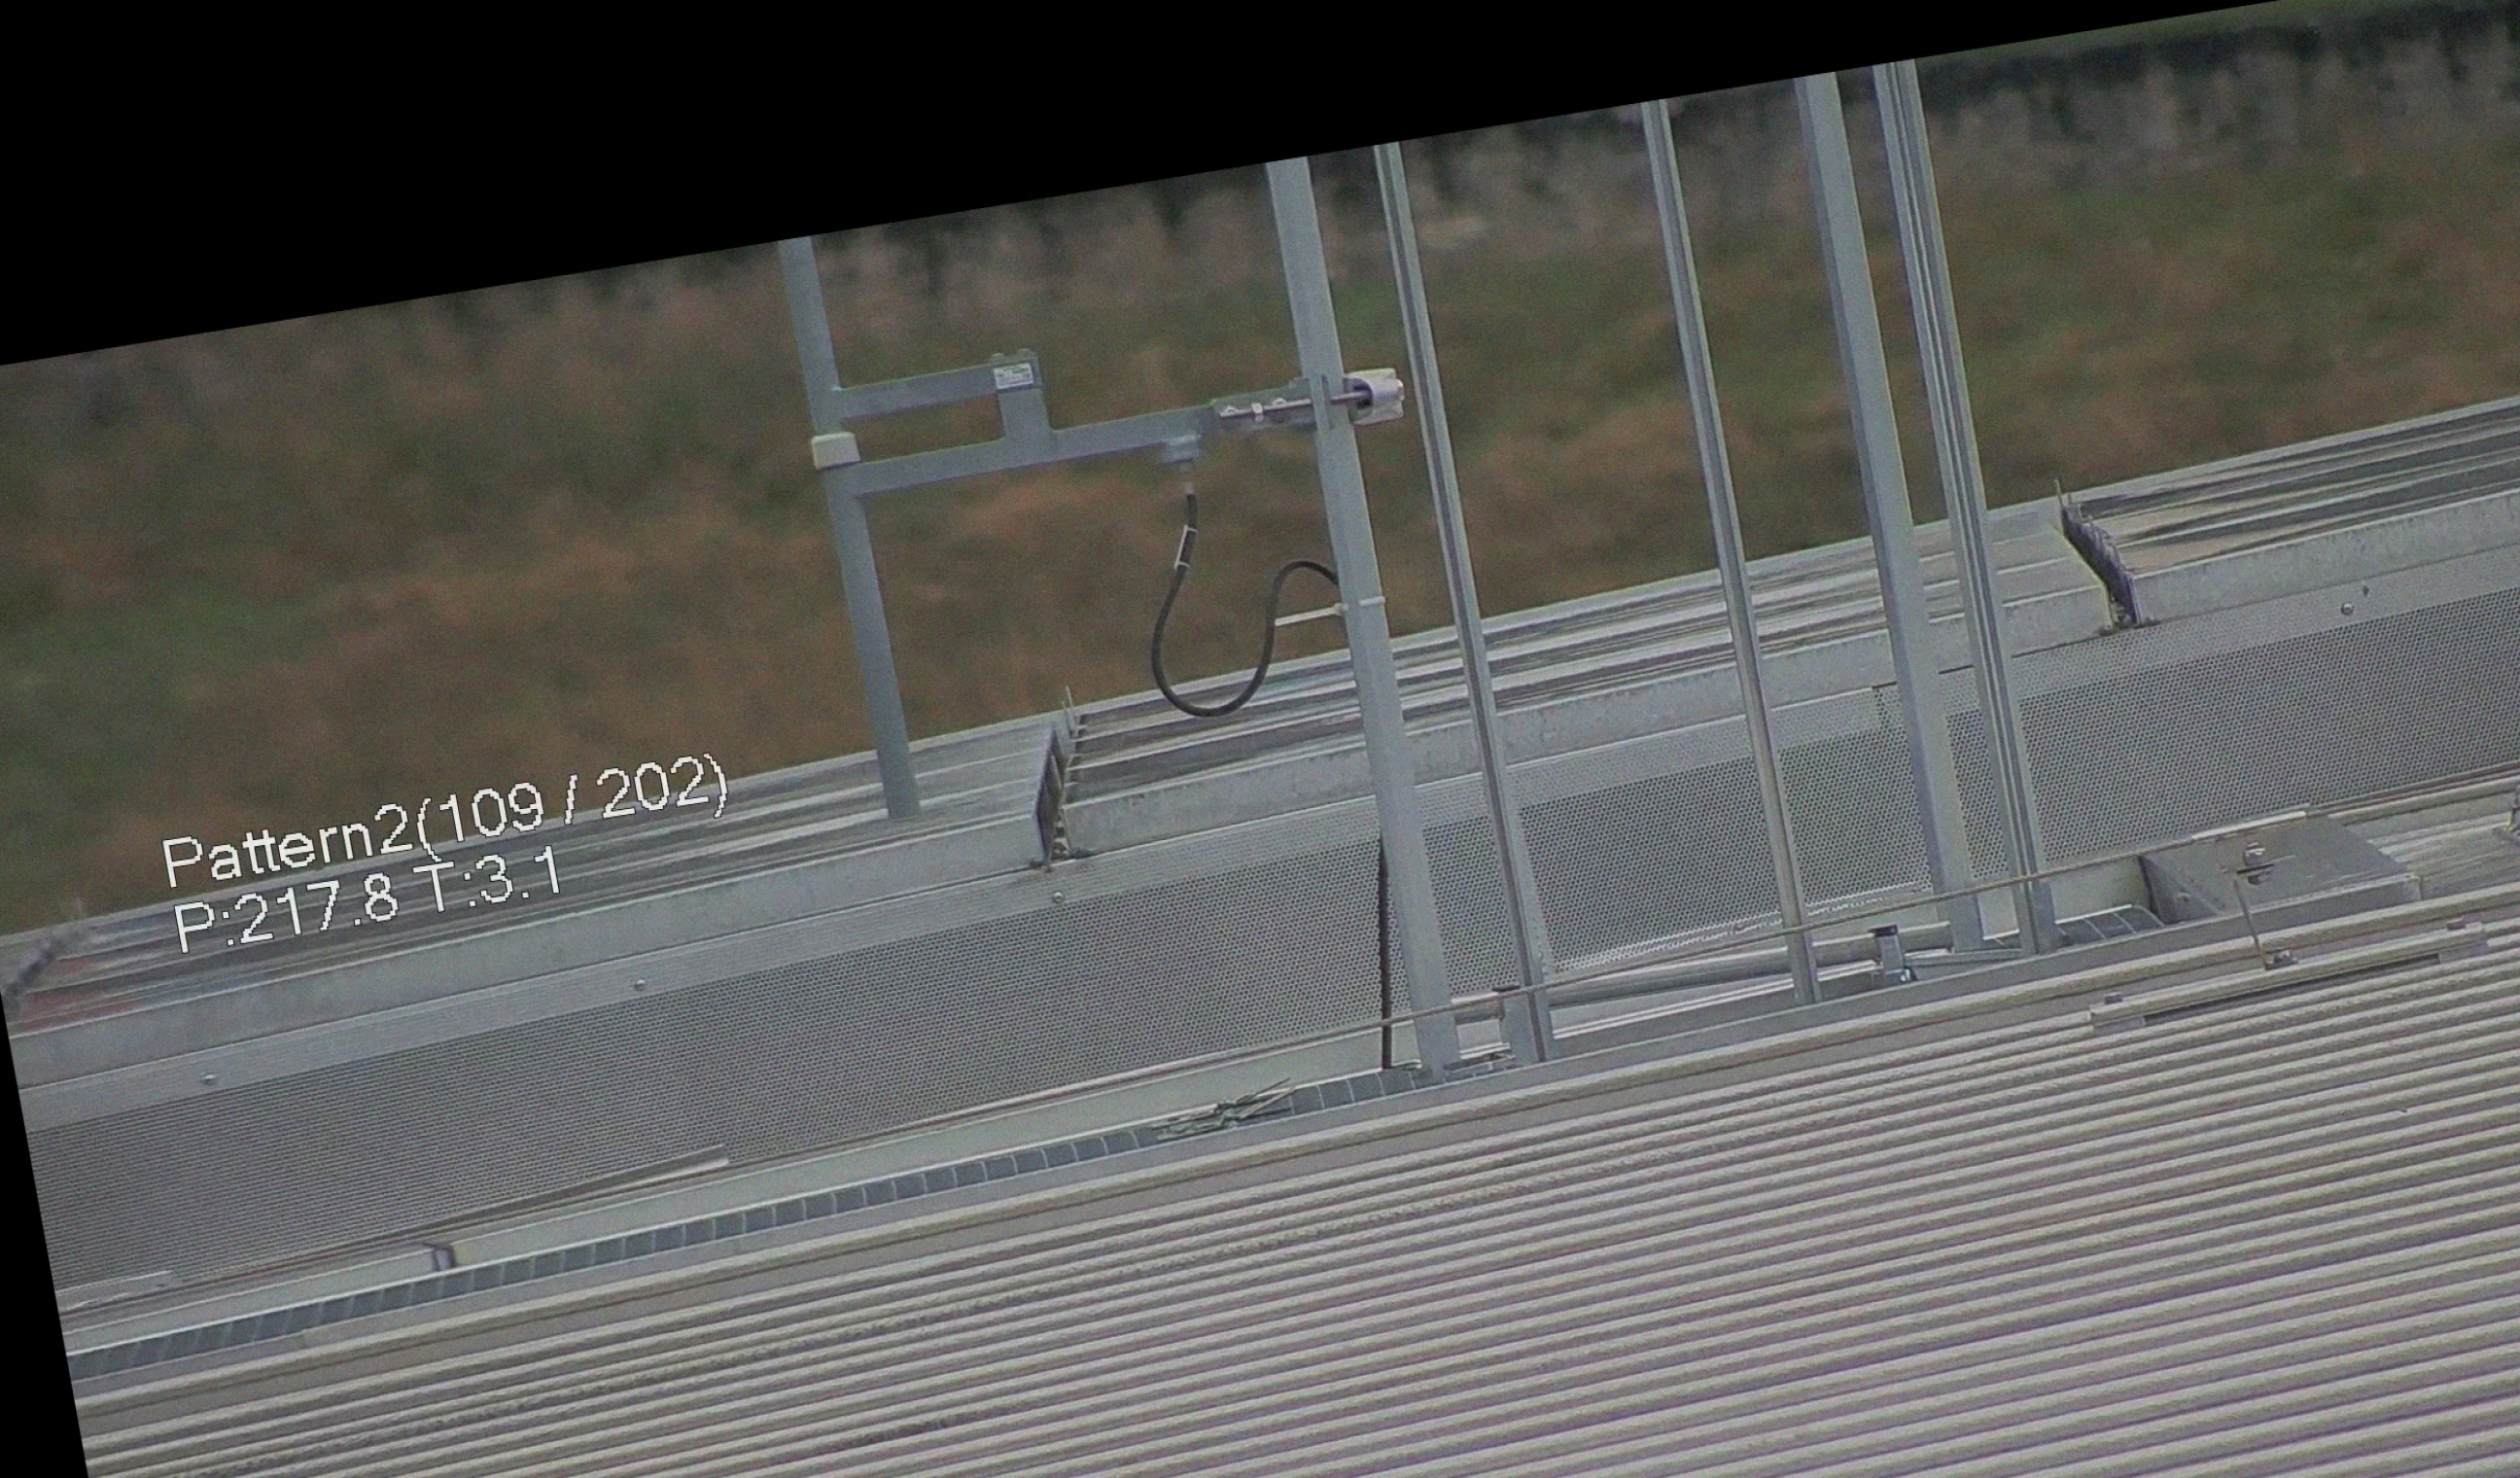Other: (2049, 470, 2174, 637)
